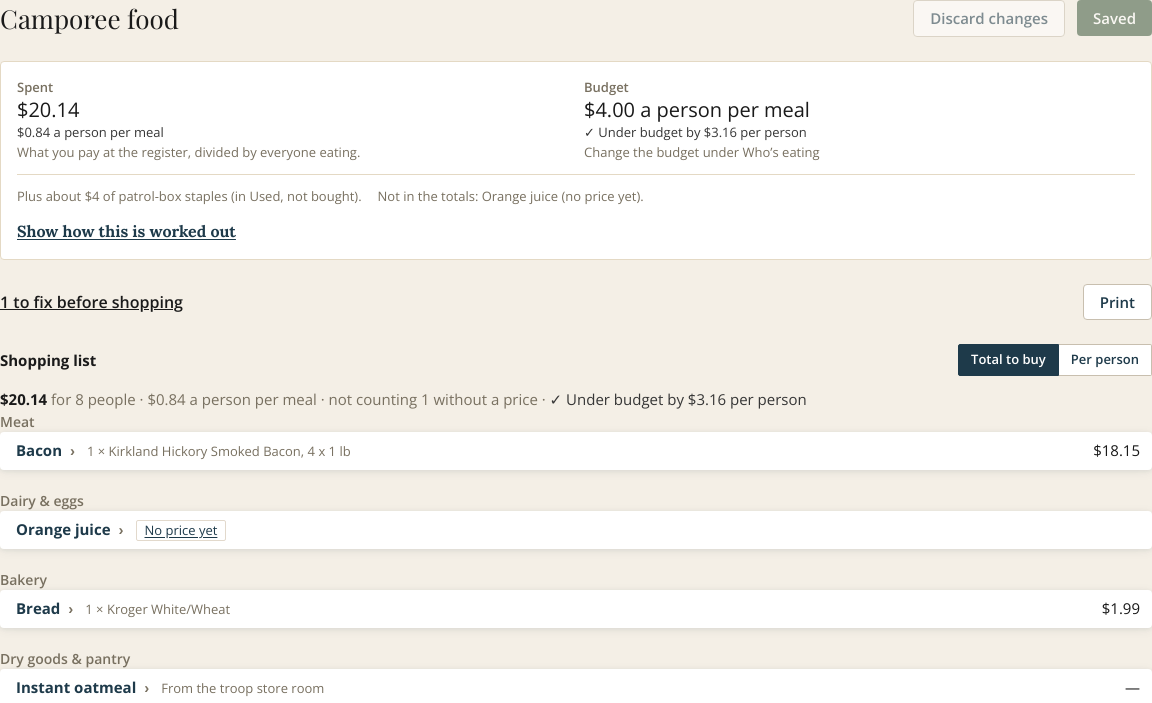
Test case: ShoppingTab › inset disclosure › Row_StartsClosed_AndOpensOnClick
The image size is (1152, 703).
Click the button "Bacon ›". click: (46, 451)
box: [16,439,75,462]
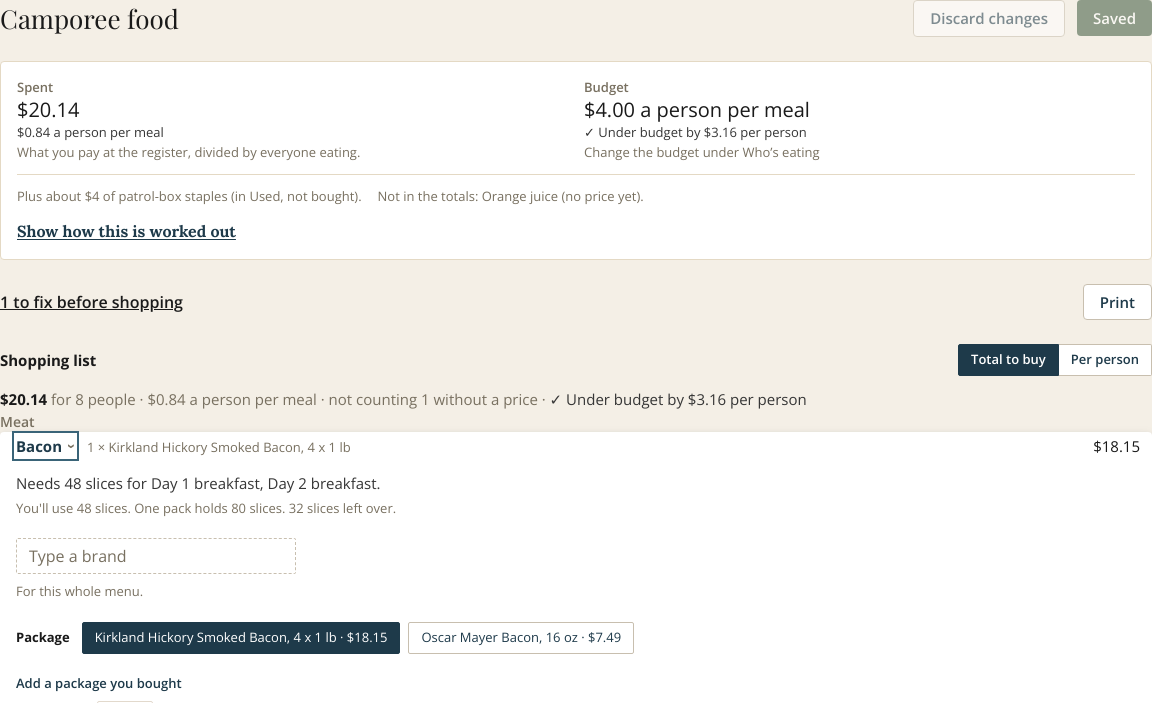
Now the button "Bacon ›" is expanded
Click the button "Bacon ›". click: (46, 446)
box: [16,434,75,457]
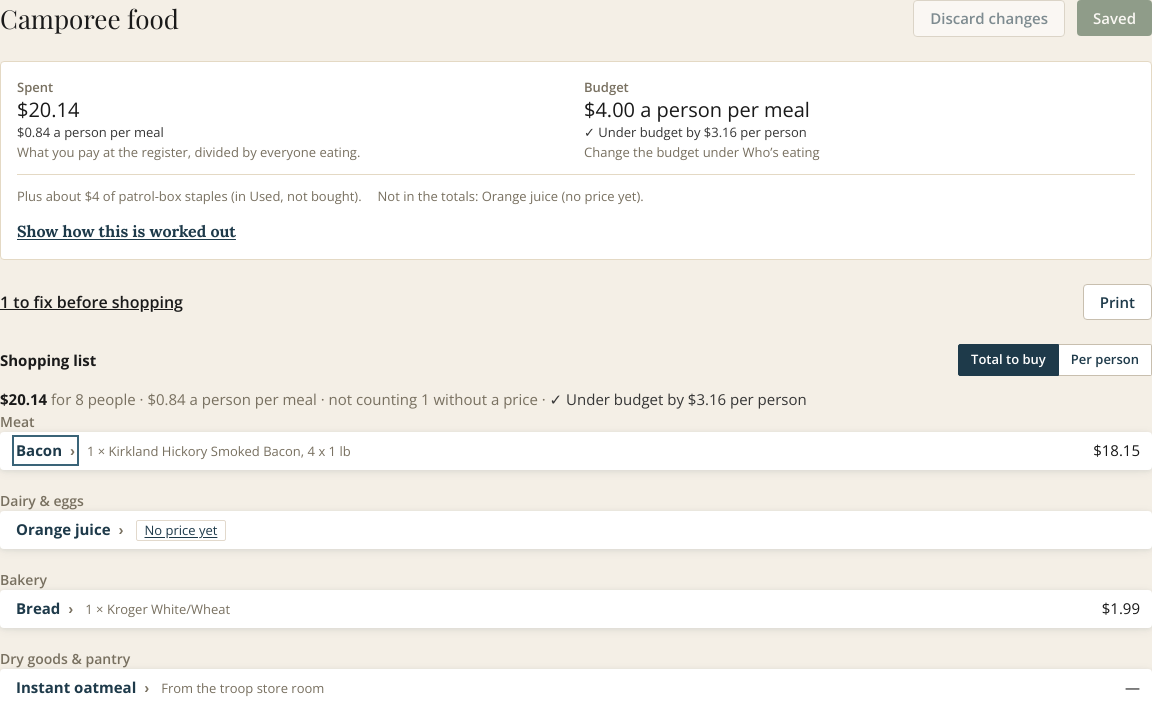
Now the button "Bacon ›" is collapsed, box [16,439,75,462]
